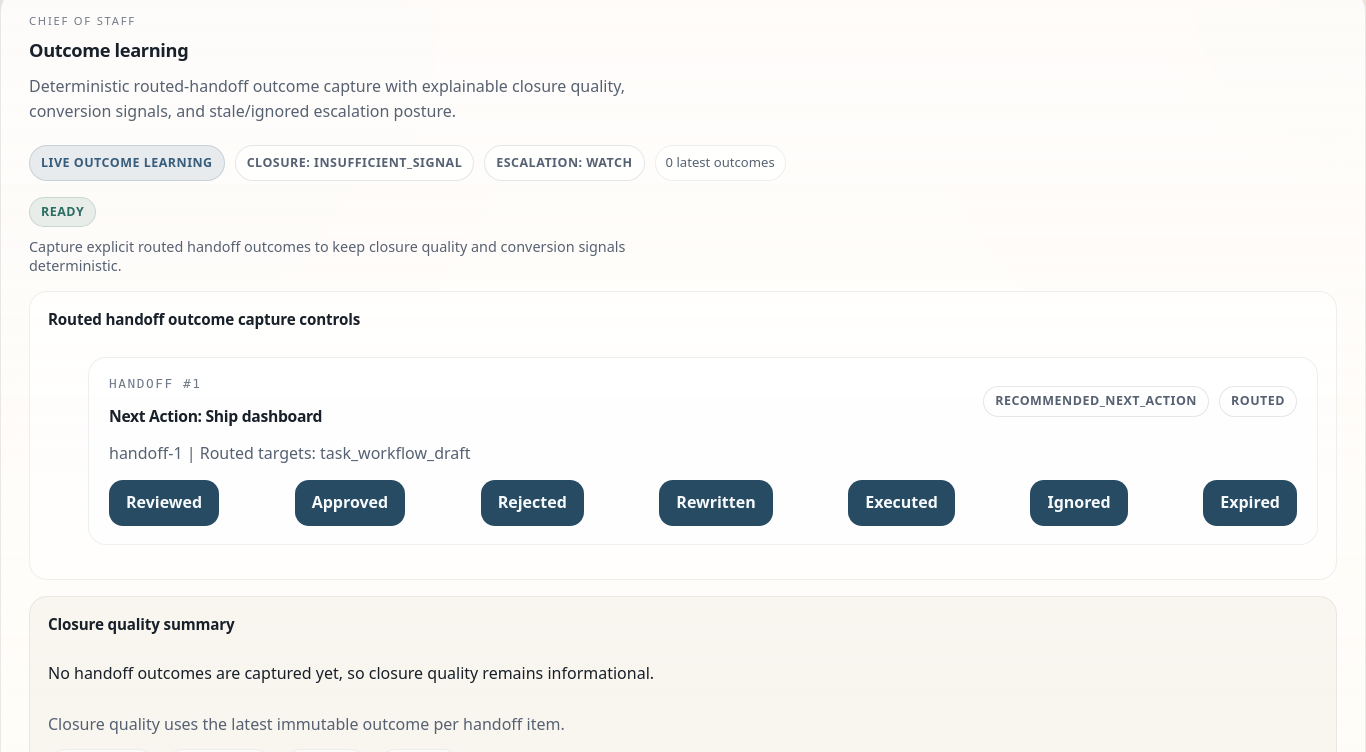
Test: ChiefOfStaffOutcomeLearningPanel › captures routed handoff outcomes in live mode and updates summaries
The width and height of the screenshot is (1366, 752).
Click the button "Executed".
click(902, 503)  # box [848,480,955,526]
(page scrolled)
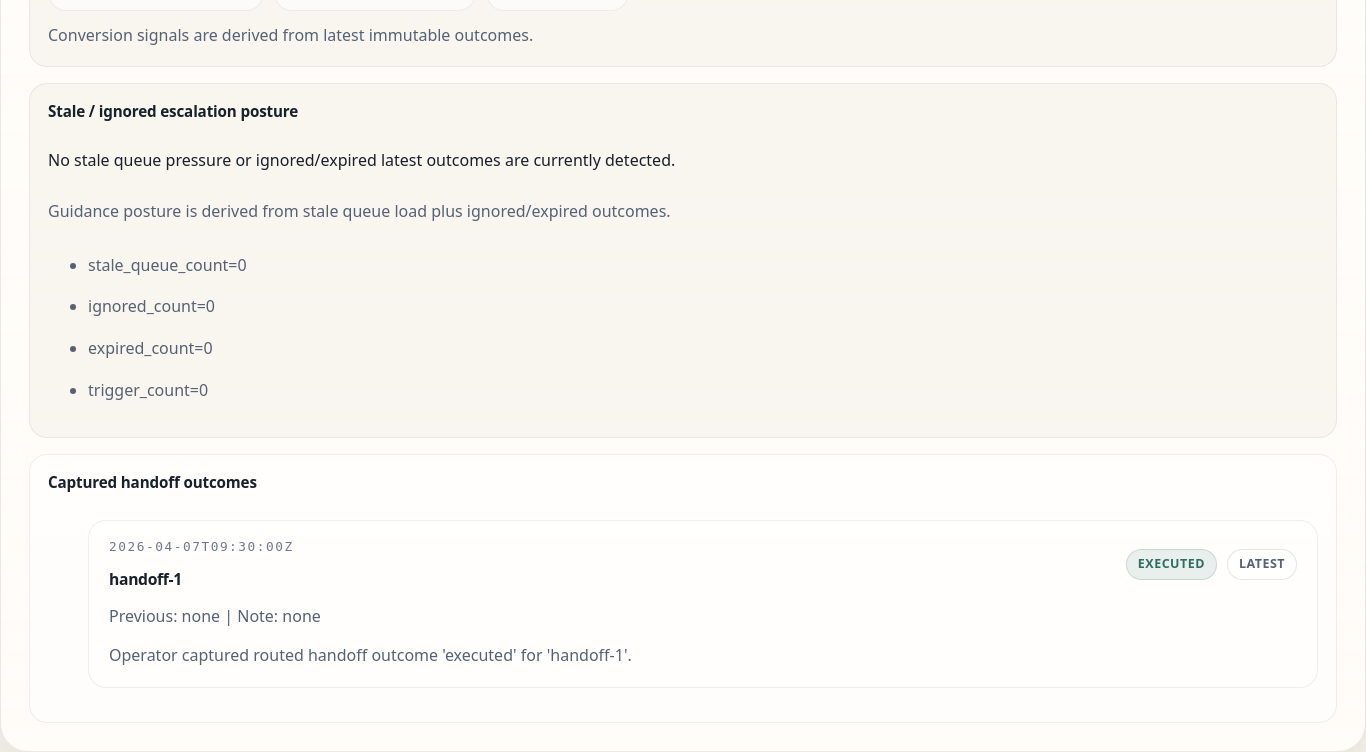
Expected: the text "Operator captured routed handoff outcome 'executed' for 'handoff-1'." is shown, [109,644,632,666]
